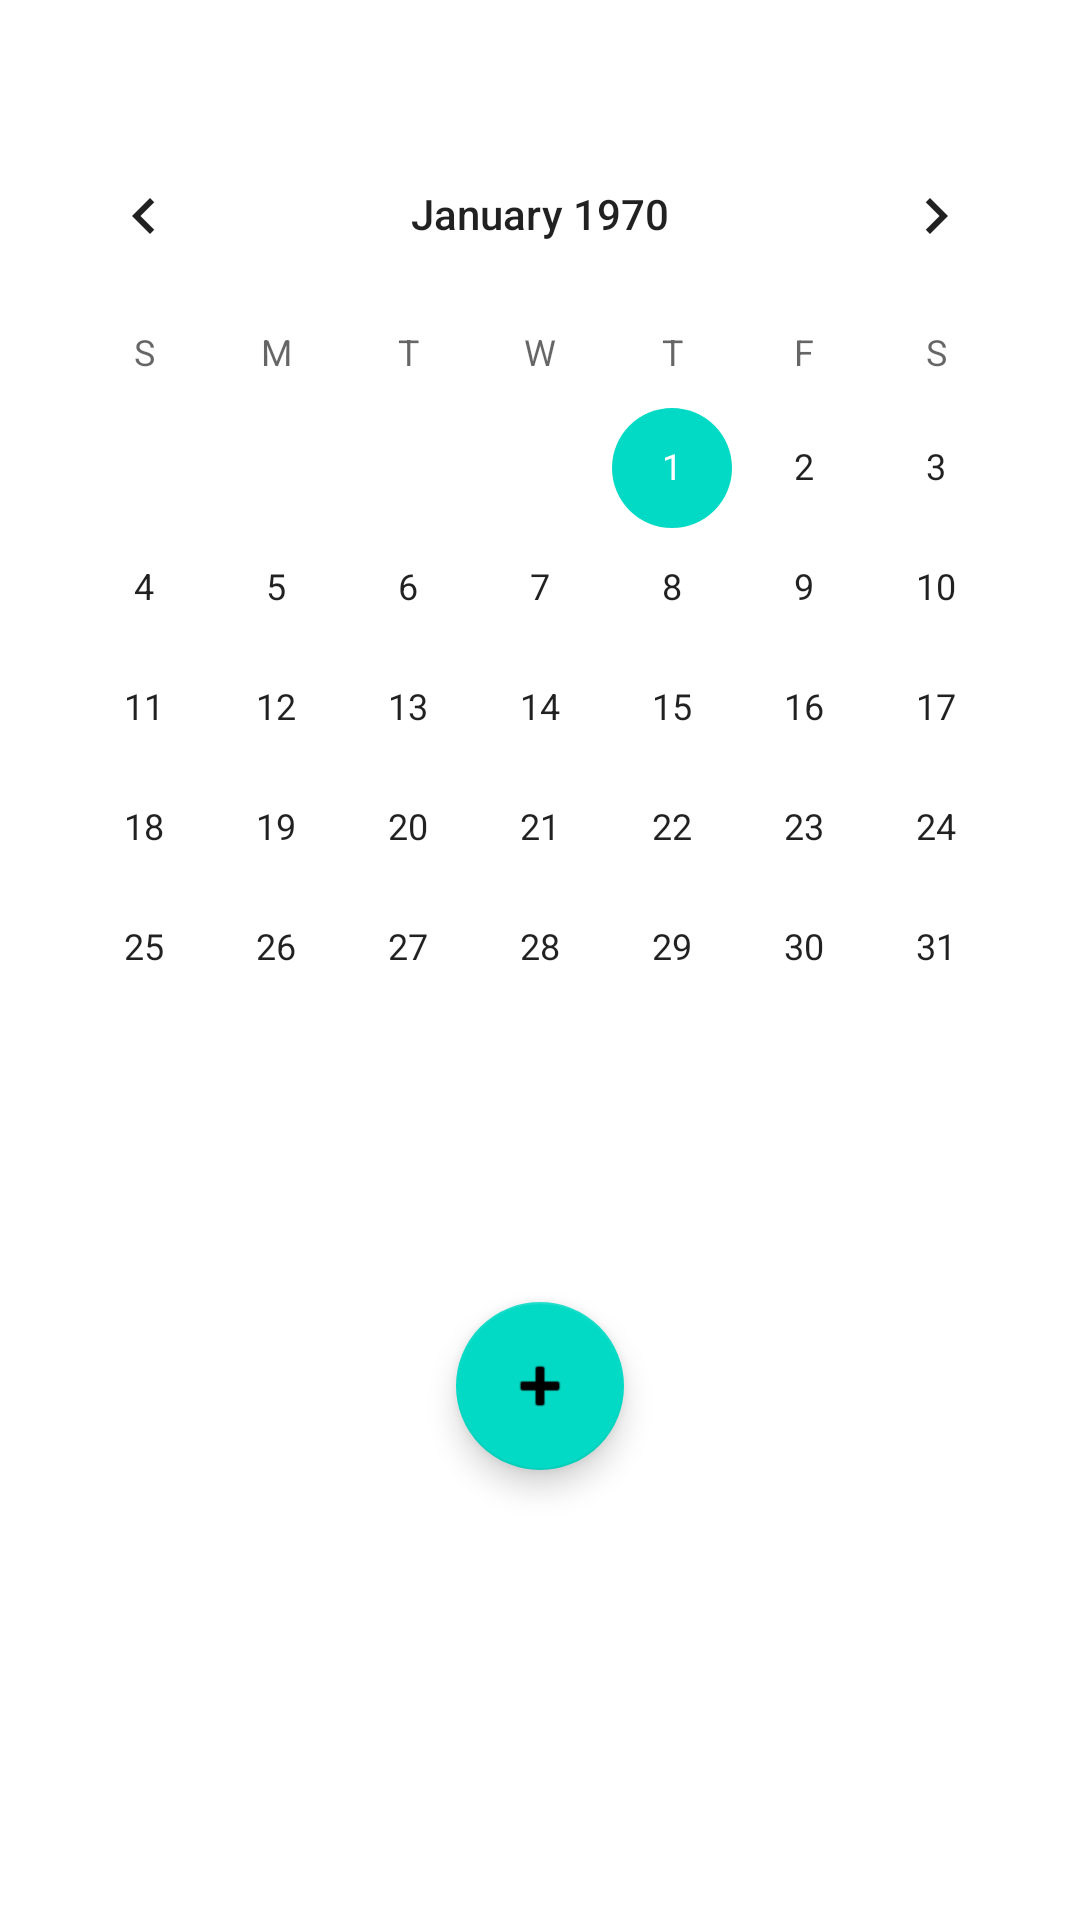

Icon bounding boxes for this 1080 × 1920 phone screenshot, format (x1, y1, x2, y2):
add: (456, 1302, 624, 1470)
